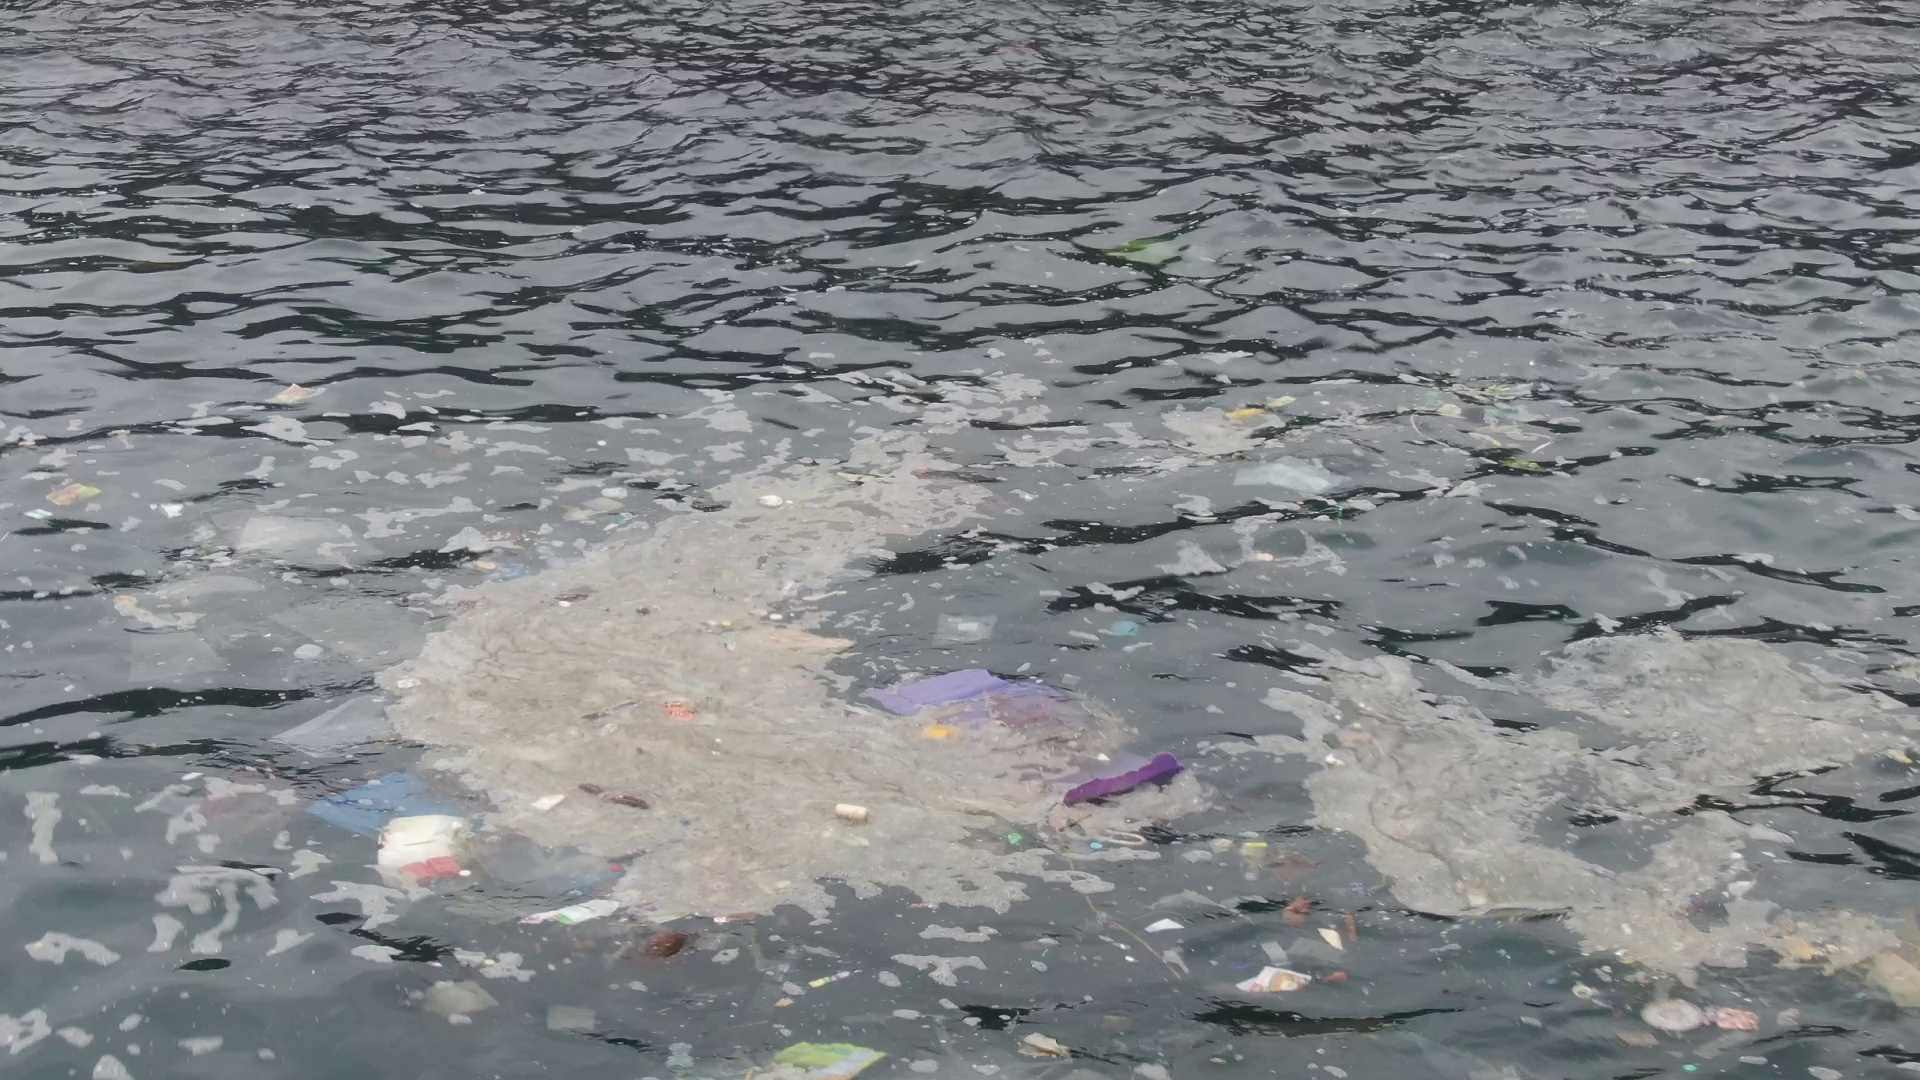garbage: (282, 665, 1230, 960), (1614, 985, 1771, 1054), (1236, 454, 1341, 497), (760, 1042, 887, 1076), (37, 476, 107, 513), (1018, 1027, 1073, 1063), (1245, 965, 1309, 996), (273, 377, 328, 407), (1102, 622, 1146, 640)
